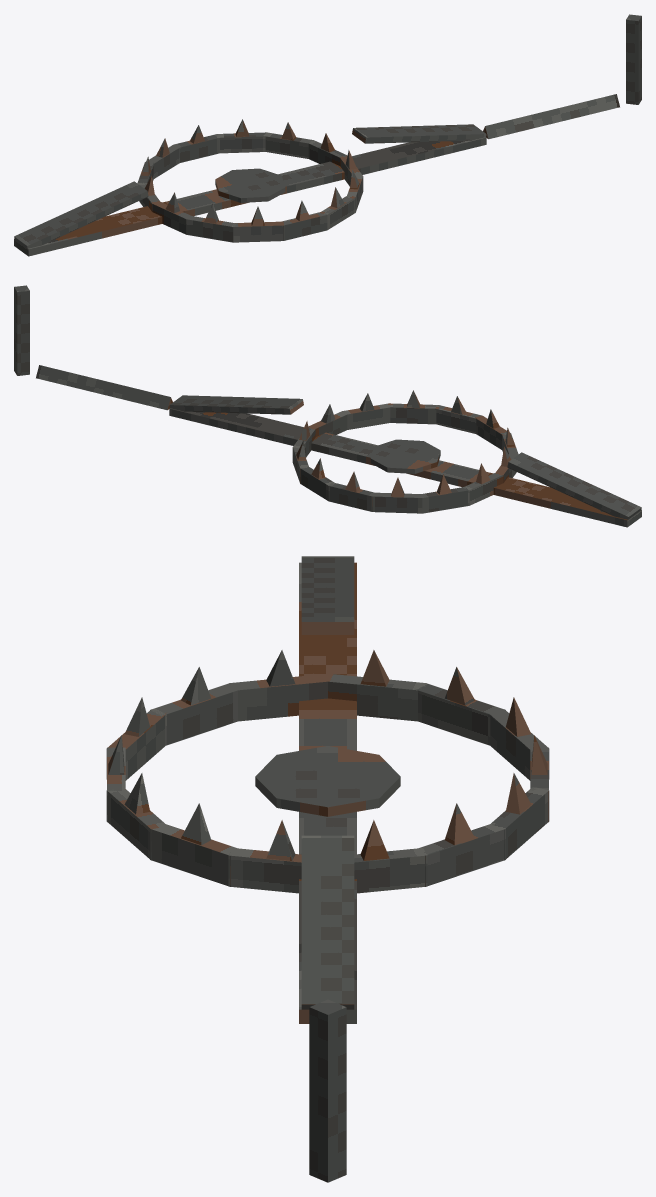
Rendered from Bear_Trap_01.glb.
The picture shows the model from 3 angles, top to bottom: view 1: azimuth 30°, elevation 25°; view 2: azimuth 150°, elevation 25°; view 3: azimuth 270°, elevation 25°; orthographic projection. The views are drawn at different scales.
Visible parts, largest first — view 1: Bear_Trap_01; view 2: Bear_Trap_01; view 3: Bear_Trap_01.
Boxes of the visible parts, <box> form: Bear_Trap_01: <box>14,14,641,256</box>; Bear_Trap_01: <box>14,285,641,527</box>; Bear_Trap_01: <box>106,556,549,1182</box>.
Bounding box in the file's own units: 1.09 × 0.14 × 0.3347.
Materials: 1 (1 with a texture image).
